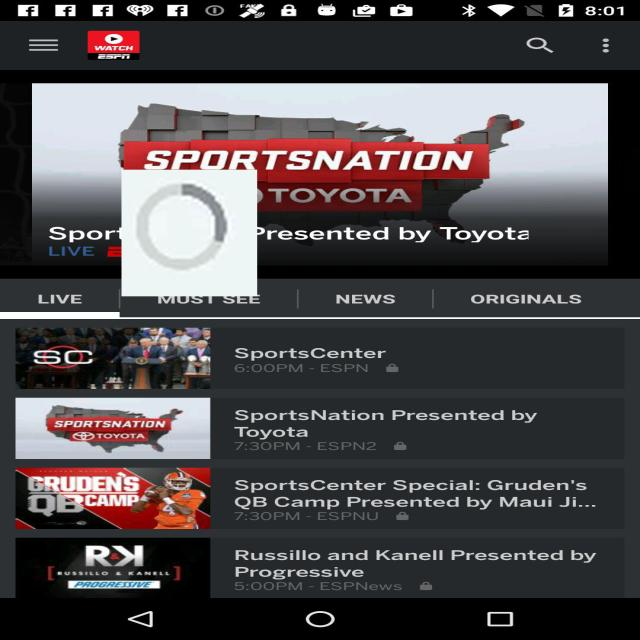misdirection: (122, 170, 257, 296)
